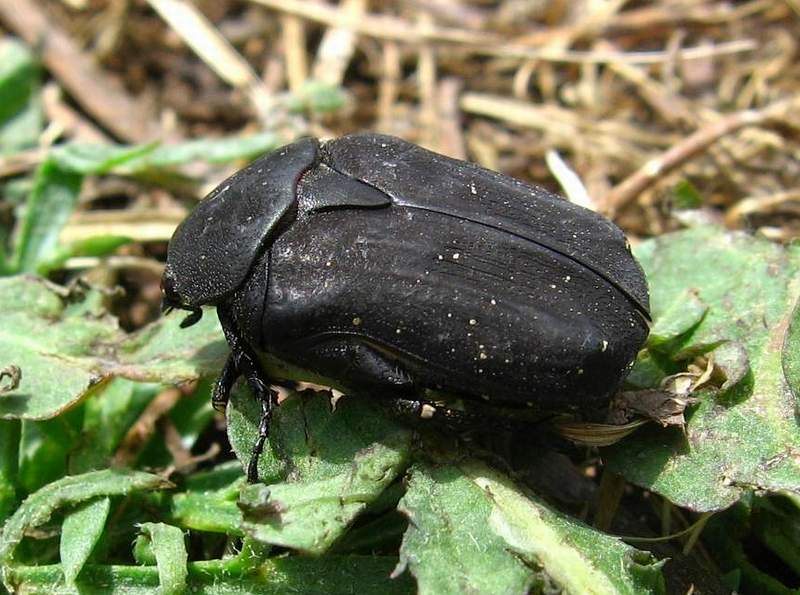Protaetia_morio_morio: (159, 120, 672, 479)
